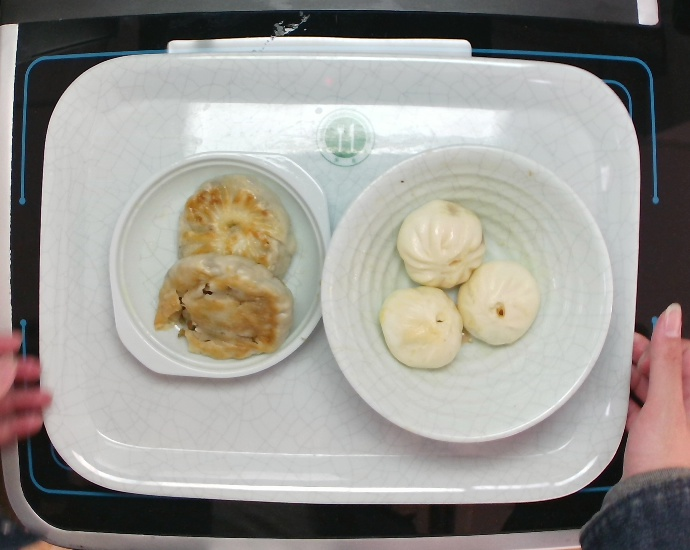JYsf-Shuang_Er_Pan: (103, 145, 334, 386)
JYsf-Xiao_Tang_Wan: (313, 139, 621, 450)
